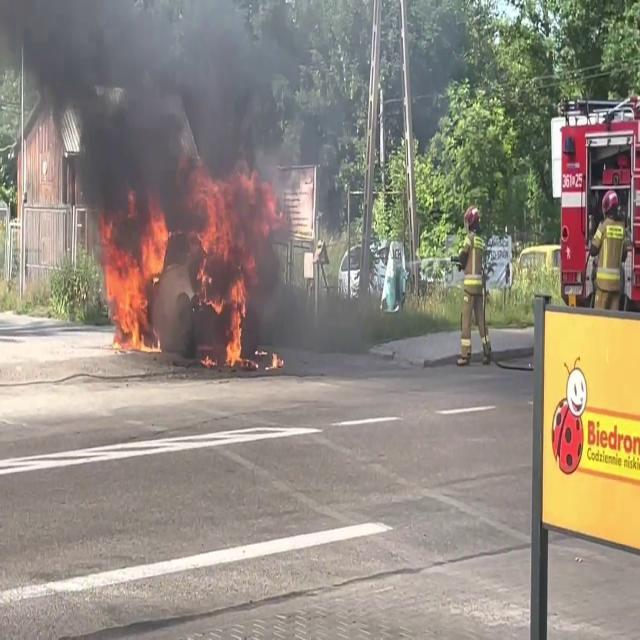Fire: (193, 159, 254, 372), (98, 210, 172, 355), (223, 274, 250, 371)
Smoke: (10, 0, 316, 244)
